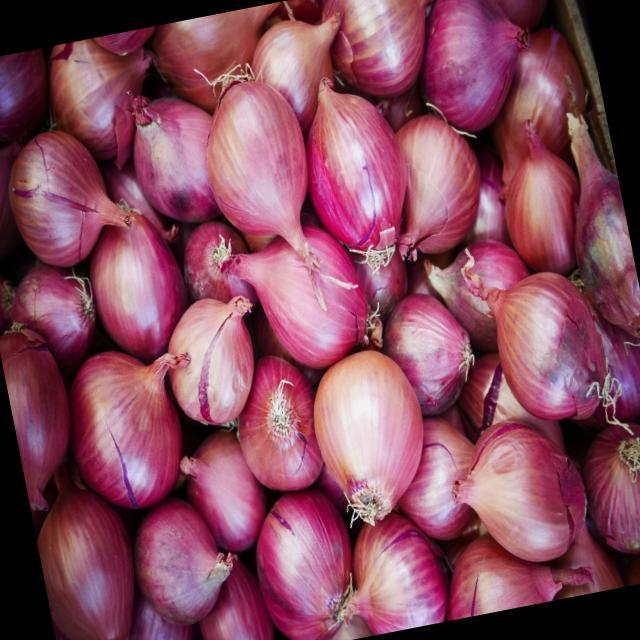ONIONS: (304, 347, 441, 542), (484, 272, 614, 438), (64, 346, 184, 514), (0, 110, 130, 262), (204, 80, 318, 240), (245, 488, 366, 632), (35, 493, 148, 640), (124, 501, 232, 616), (161, 302, 261, 418)
